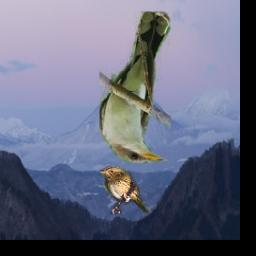Cuckoo: (99, 11, 171, 163)
Sparrow: (99, 167, 150, 215)
